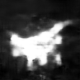plane: (6, 19, 74, 70)
